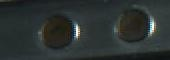holes: (33, 12, 80, 50)
joints: (33, 11, 81, 51), (111, 3, 155, 44)
